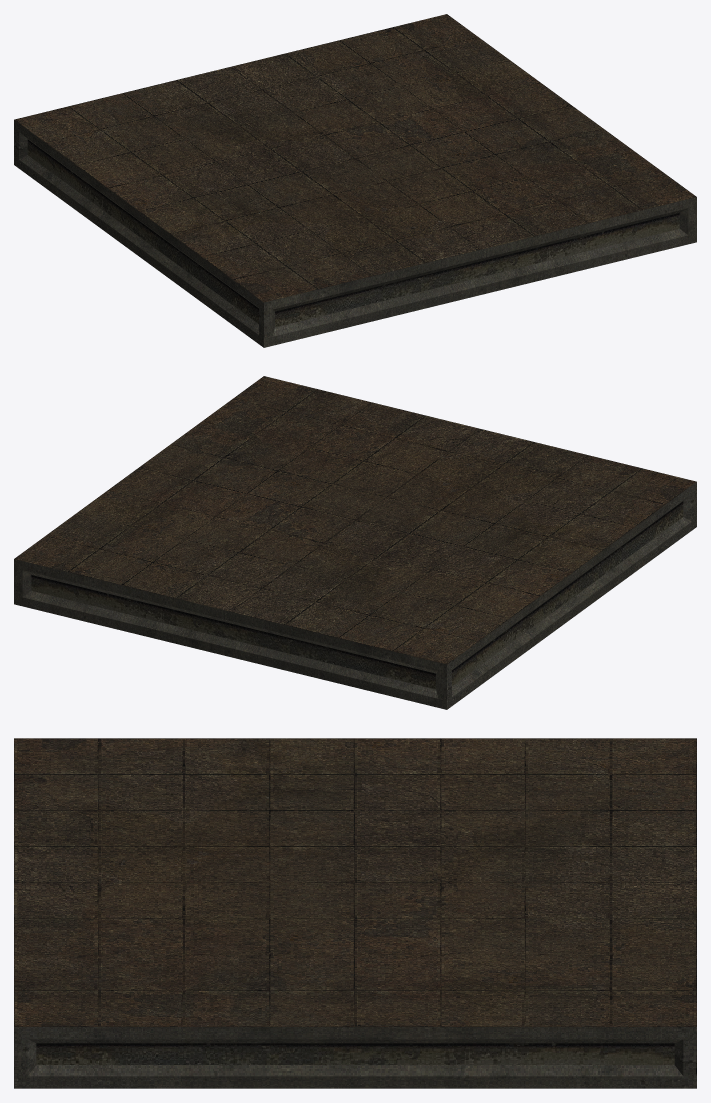
The model's file is floor_ceiling_hr_4_001.glb.
3 renders of one model, top to bottom at view 1: azimuth 30°, elevation 25°; view 2: azimuth 150°, elevation 25°; view 3: azimuth 270°, elevation 25°, orthographic. The views are drawn at different scales.
Visible parts, largest first — view 1: floor_ceiling_hr_4.001; view 2: floor_ceiling_hr_4.001; view 3: floor_ceiling_hr_4.001.
Part boxes in pixels (x1=…): floor_ceiling_hr_4.001: x1=14, y1=14, x2=696, y2=347; floor_ceiling_hr_4.001: x1=14, y1=376, x2=696, y2=709; floor_ceiling_hr_4.001: x1=14, y1=738, x2=696, y2=1088.
Size of the model in its own units: 4 by 0.4 by 4.
3 materials, 3 textured.
